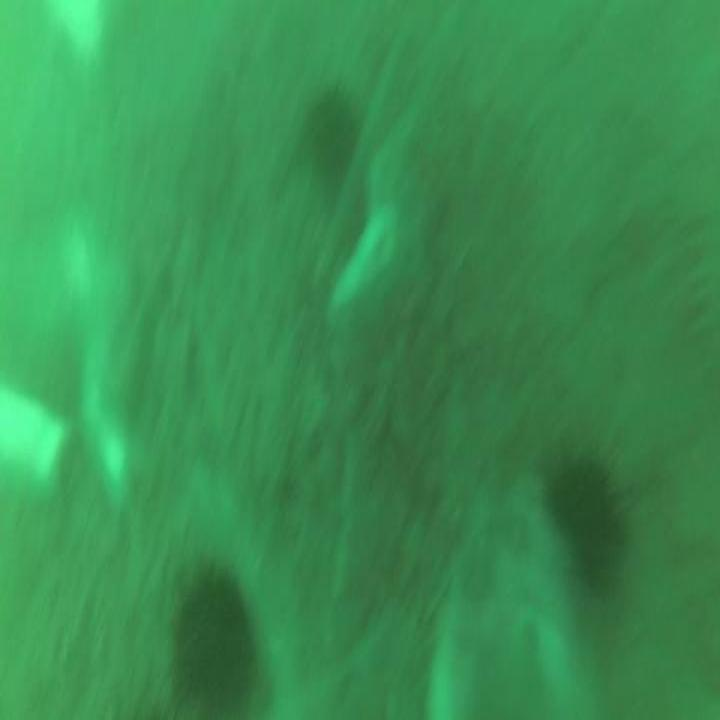echinus: (175, 583, 253, 718), (550, 458, 624, 588), (310, 94, 358, 174)
